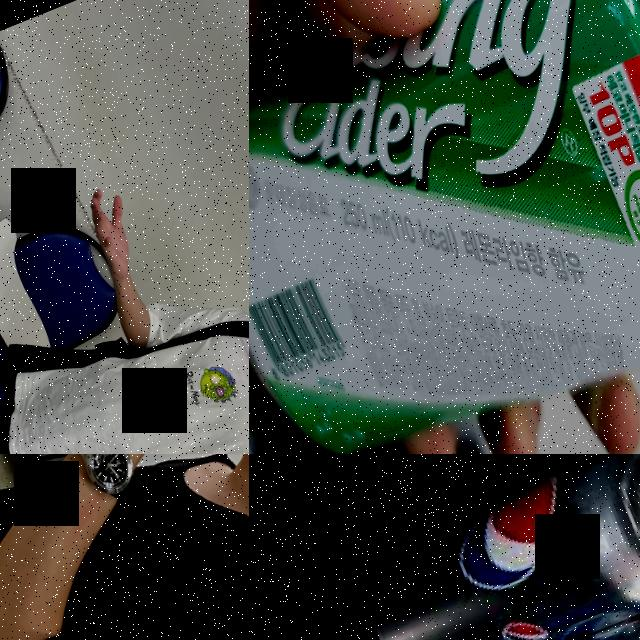can: (249, 0, 640, 454), (337, 454, 640, 640), (393, 562, 640, 640)
